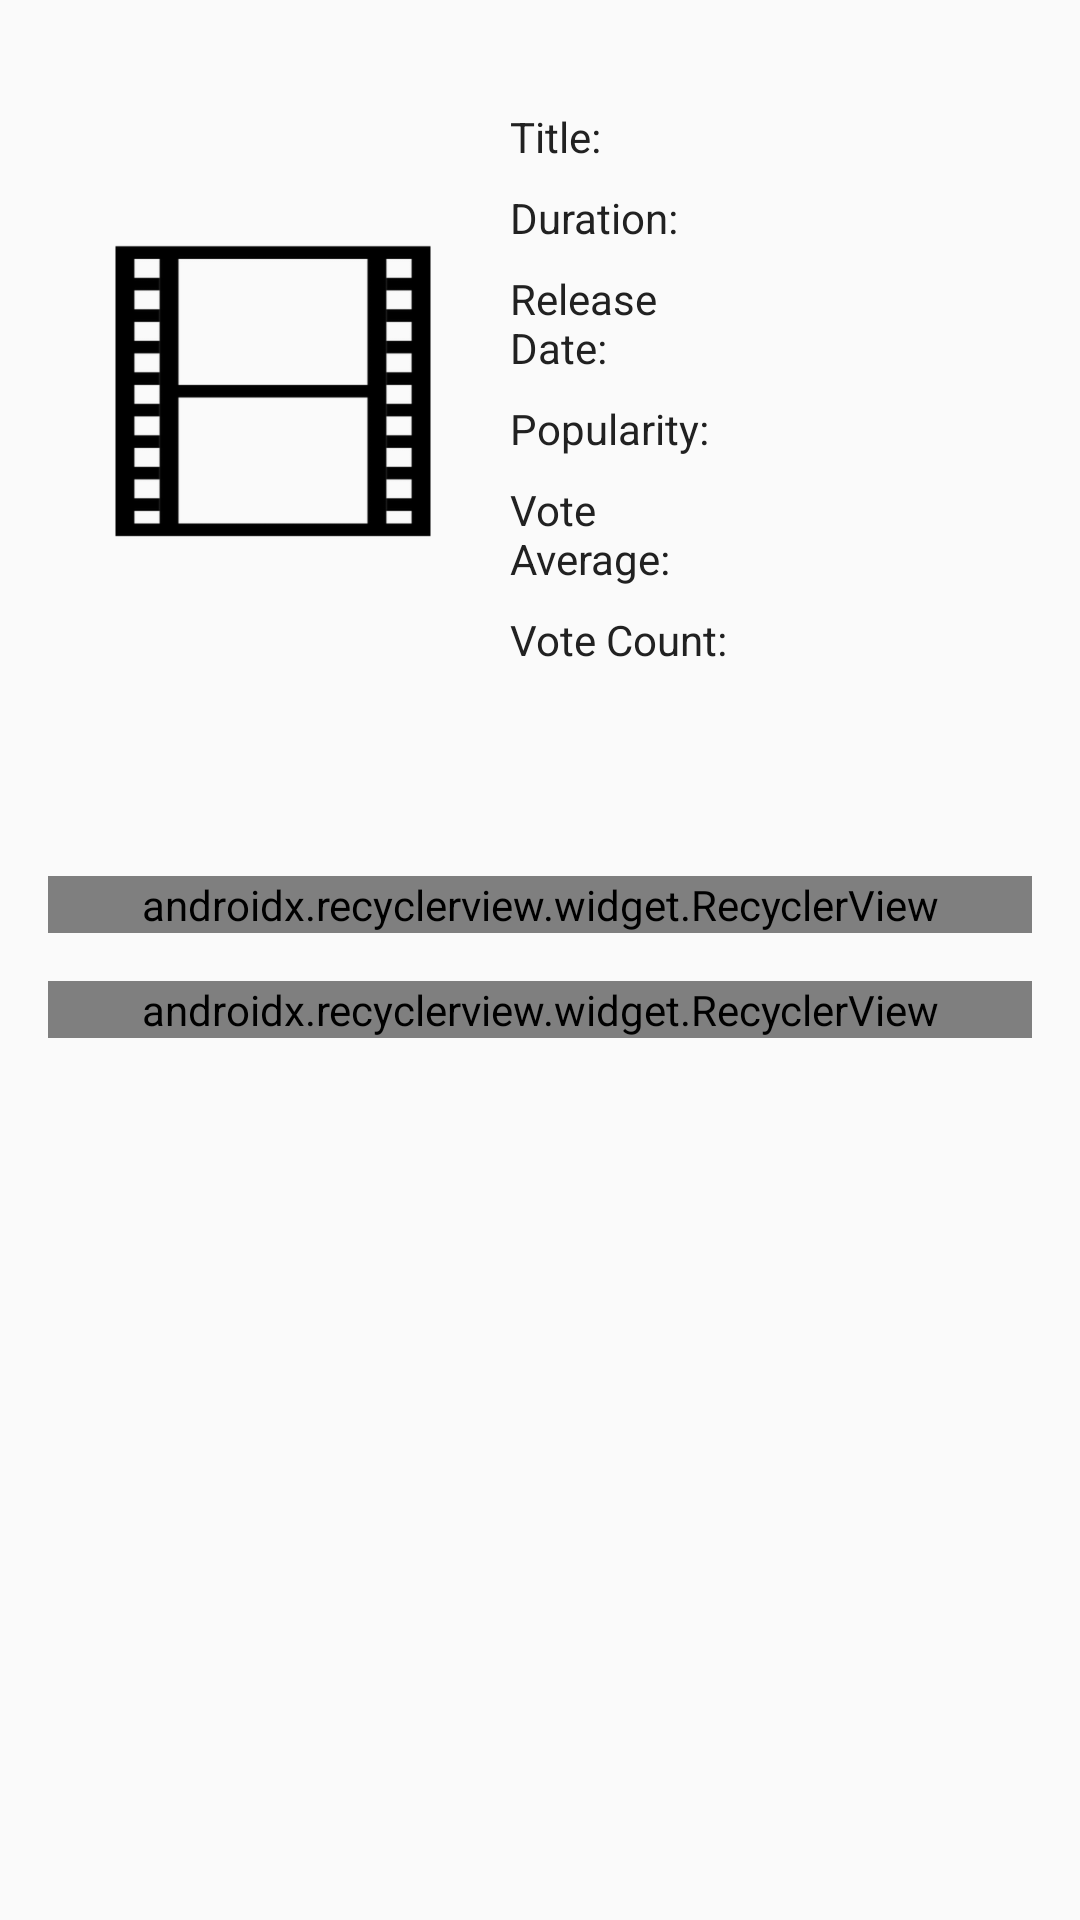

Locate icon controls on the screen. Image size 1080px x 1920px, boxes as region(x1, y1, x2, y2).
movie poster: region(115, 246, 431, 537)
